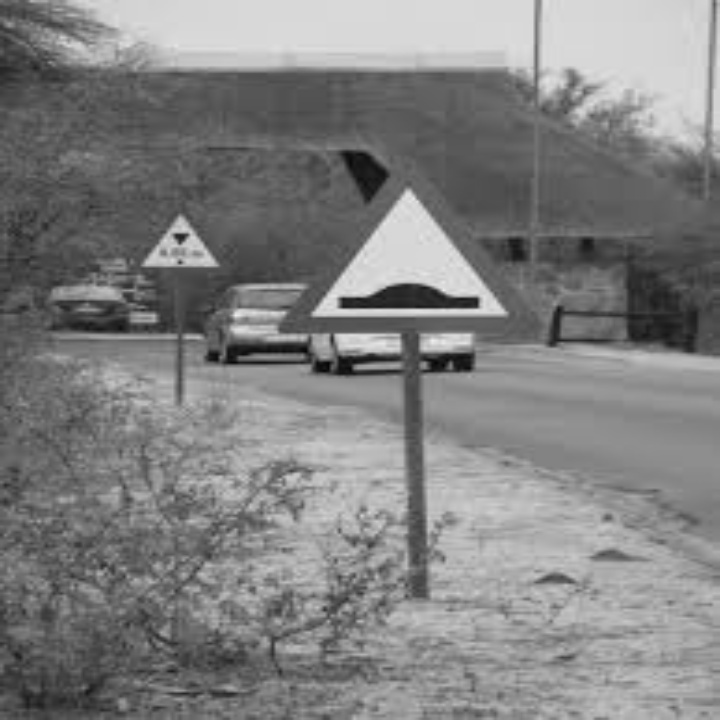bump: (318, 271, 496, 315)
